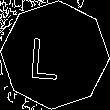L_N: (38, 28, 72, 82)
